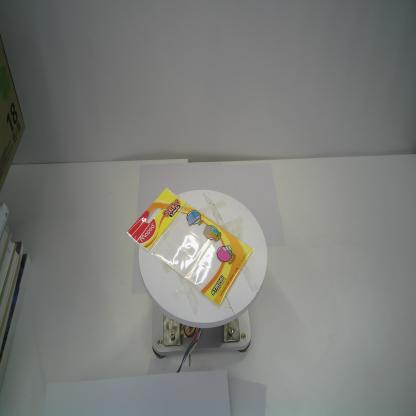Stationery: (125, 184, 256, 310)
